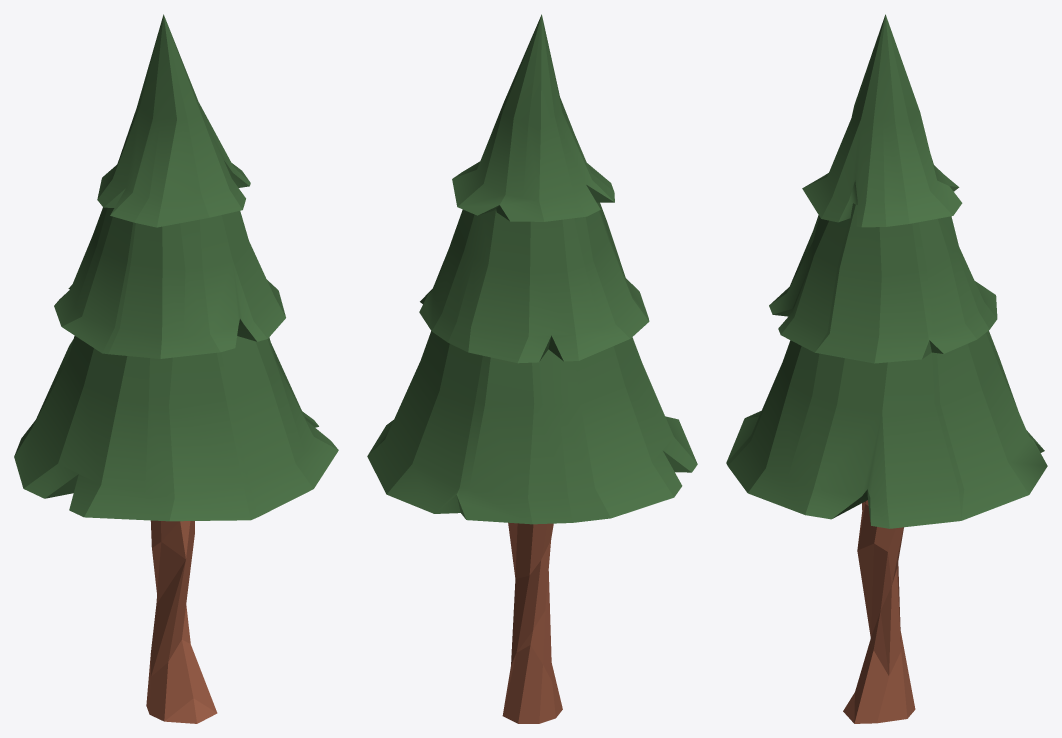
File: Tree_5_High.fbx
3 views of the same model, side by side, from view 1: azimuth 30°, elevation 25°; view 2: azimuth 150°, elevation 25°; view 3: azimuth 270°, elevation 25° (orthographic).
Visible parts, largest first — view 1: Tree_5_High; view 2: Tree_5_High; view 3: Tree_5_High.
Part boxes in pixels (x1=…): Tree_5_High: x1=14, y1=14, x2=338, y2=723; Tree_5_High: x1=367, y1=14, x2=697, y2=723; Tree_5_High: x1=726, y1=14, x2=1047, y2=723.
Bounding box in the file's own units: 110 × 253 × 107.
